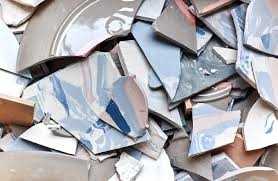glass: (10, 1, 145, 75), (81, 51, 156, 137), (129, 19, 185, 101), (187, 101, 240, 158), (163, 128, 215, 181), (153, 1, 201, 58), (15, 120, 82, 159), (241, 93, 278, 154), (240, 1, 278, 56), (247, 51, 278, 110), (1, 90, 36, 131), (209, 42, 243, 68), (131, 1, 168, 24), (114, 151, 140, 181)
